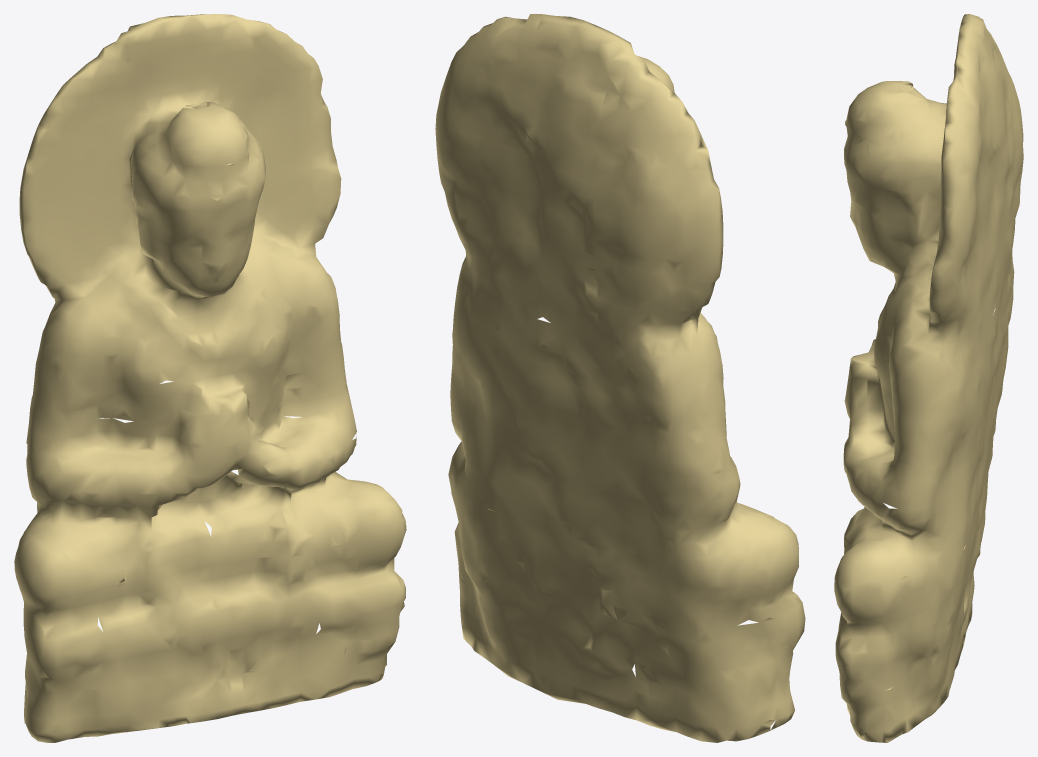
Rendered from niche-buddha-b.glb.
3 views of the same model, side by side, from view 1: azimuth 30°, elevation 25°; view 2: azimuth 150°, elevation 25°; view 3: azimuth 270°, elevation 25° (orthographic). The views are drawn at different scales.
Bounding box in the file's own units: 2.18 × 3.99 × 1.06.
